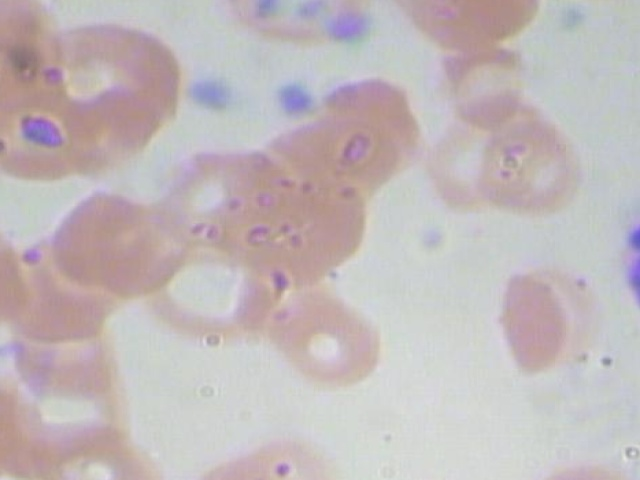Platelets: (182, 66, 242, 121), (262, 72, 321, 126), (325, 0, 384, 49)
RBC: (30, 9, 187, 151), (480, 251, 628, 390), (226, 166, 387, 285), (252, 108, 405, 230), (270, 275, 398, 398), (36, 185, 170, 302), (148, 240, 283, 356), (14, 352, 149, 468), (0, 287, 132, 404), (481, 97, 593, 219), (414, 102, 525, 224), (0, 239, 112, 355), (208, 0, 390, 63), (0, 0, 77, 139), (33, 407, 169, 480), (433, 35, 529, 134), (207, 424, 353, 480), (159, 424, 305, 480), (0, 372, 13, 480)
WBC: (599, 185, 640, 348)
